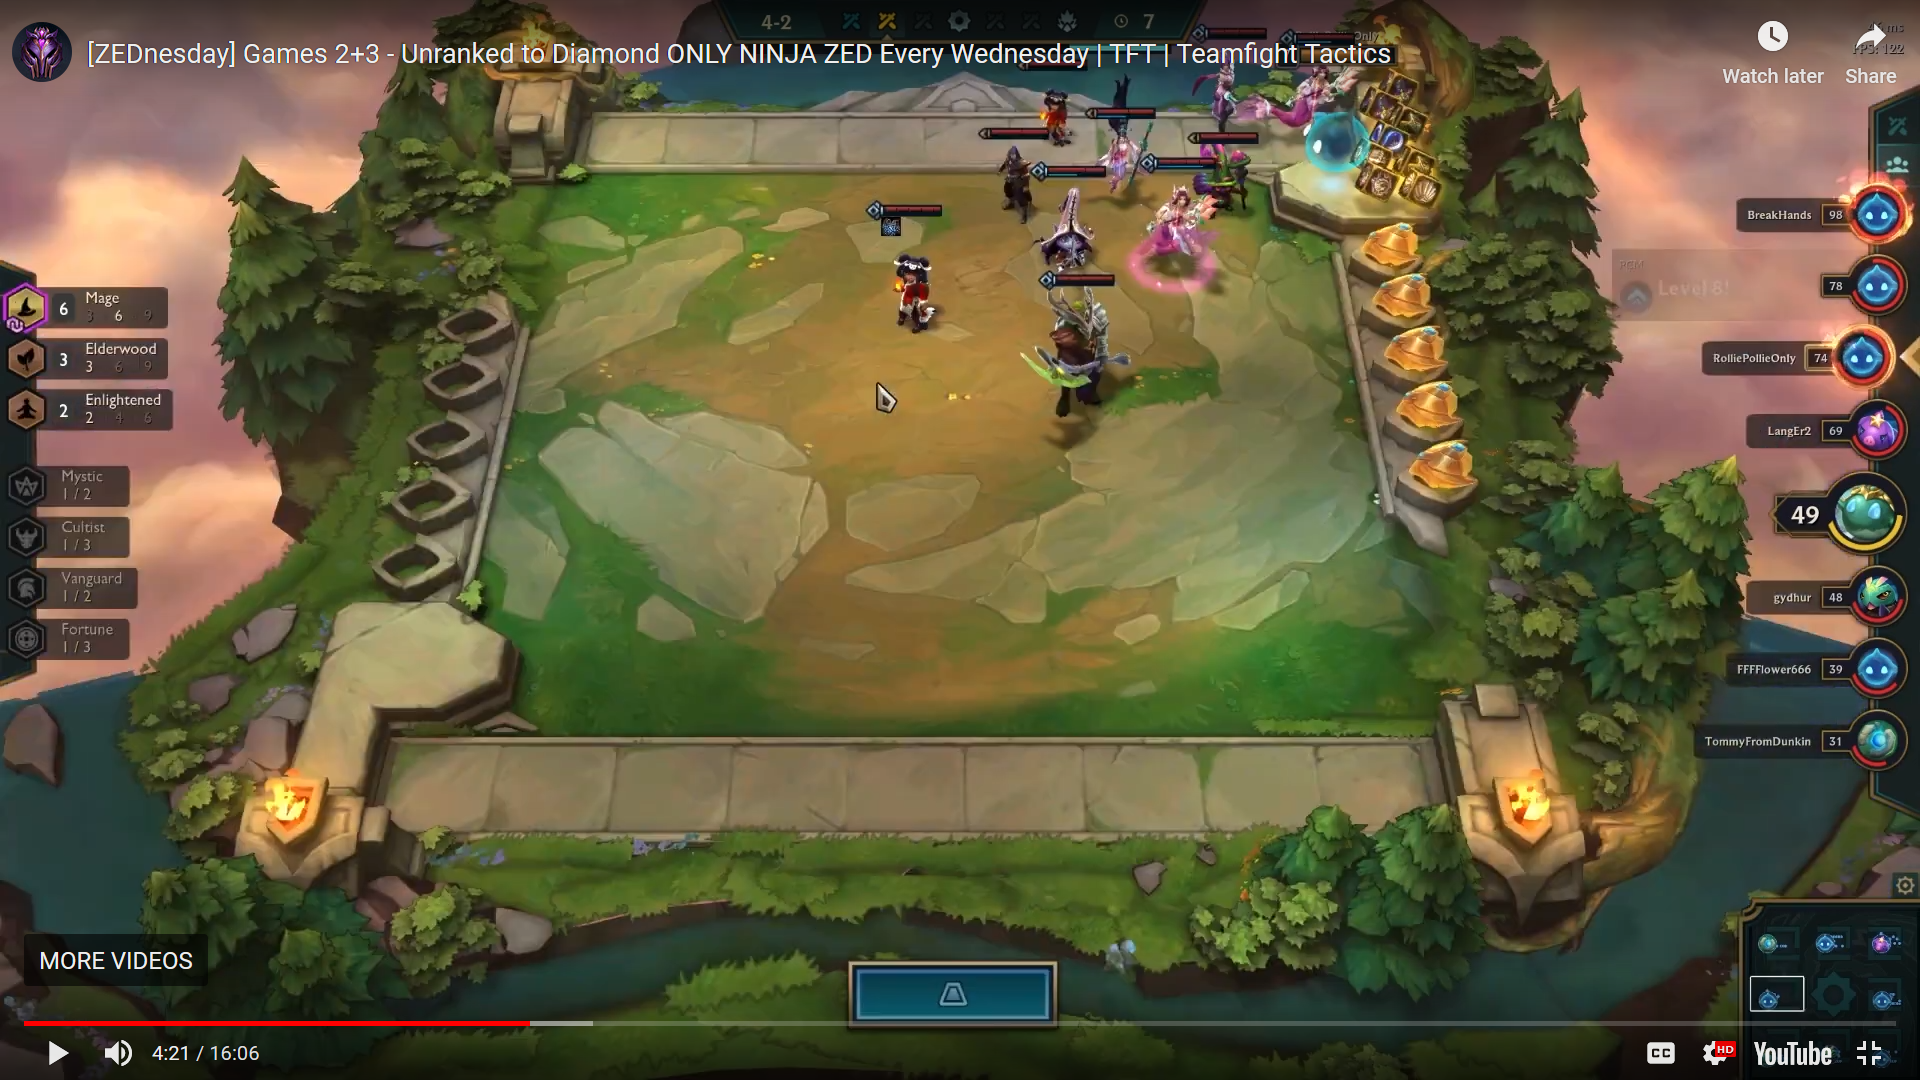1star_janna: (1075, 69, 1166, 218)
1star_twistedfate: (965, 113, 1060, 232)
1star_veigar: (1178, 117, 1265, 237)
2star_annie: (853, 193, 960, 349)
2star_hecarim: (1011, 258, 1146, 436)
2star_lulu: (1017, 149, 1120, 297)
2star_nami: (1116, 146, 1244, 303)
2star_nami_chosen: (1113, 144, 1242, 301)
item_chain: (880, 212, 905, 239)
trait_cultist1: (1, 506, 142, 562)
trait_elderwood3: (1, 328, 185, 385)
trait_enlightened2: (1, 382, 185, 439)
trait_fortune1: (1, 607, 142, 661)
trait_mage6: (1, 280, 185, 336)
trait_mage_chosen: (1, 278, 54, 334)
trait_mystic1: (1, 459, 142, 514)
trait_vanguard1: (1, 560, 142, 616)
